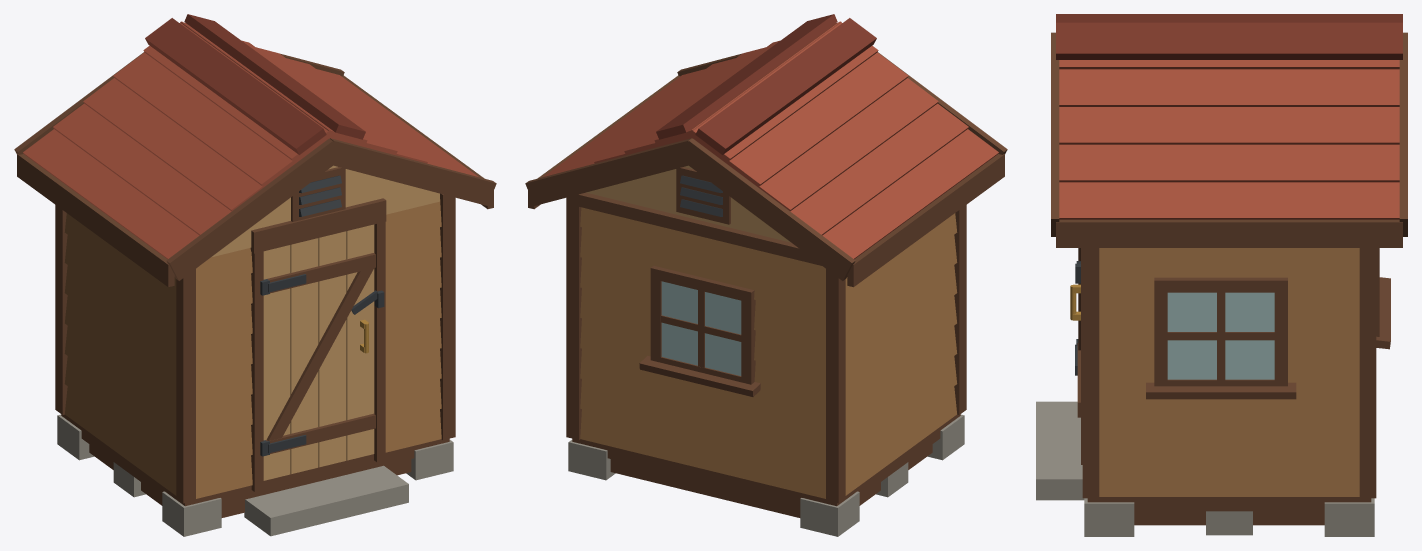
The model's file is storage-shed.m1.glb.
The picture shows the model from 3 angles, left to right: view 1: azimuth 30°, elevation 25°; view 2: azimuth 150°, elevation 25°; view 3: azimuth 270°, elevation 25°; orthographic projection. The views are drawn at different scales.
Visible parts, largest first — view 1: wall_lap_siding, roof_tile_courses, door_planks, foundation_piers, roof_ridge_cap, corner_and_frieze_boards, roof_barge_boards, door_frame, door_ledges_and_brace, roof_eave_fascia, sill_beam, gable_boards (+4 smaller); view 2: wall_lap_siding, roof_tile_courses, corner_and_frieze_boards, roof_ridge_cap, roof_barge_boards, window_frame, window_glass, roof_eave_fascia, foundation_piers, sill_beam, gable_boards, base_skirt (+3 smaller); view 3: roof_tile_courses, wall_lap_siding, roof_ridge_cap, roof_eave_fascia, foundation_piers, corner_and_frieze_boards, window_frame, window_glass, sill_beam, roof_barge_boards, base_skirt, window_mullions (+1 smaller).
Part boxes in pixels (left/top/right/bottom): wall_lap_siding: left=64, top=199, right=441, bottom=498; roof_tile_courses: left=23, top=21, right=478, bottom=259; door_planks: left=263, top=224, right=374, bottom=480; foundation_piers: left=57, top=414, right=453, bottom=536; roof_ridge_cap: left=145, top=14, right=365, bottom=154; corner_and_frieze_boards: left=55, top=193, right=455, bottom=503; roof_barge_boards: left=14, top=52, right=496, bottom=280; door_frame: left=250, top=198, right=386, bottom=491; door_ledges_and_brace: left=265, top=253, right=375, bottom=453; roof_eave_fascia: left=17, top=75, right=493, bottom=287; sill_beam: left=61, top=414, right=449, bottom=506; gable_boards: left=211, top=165, right=439, bottom=257; wall_lap_siding: left=580, top=207, right=957, bottom=498; roof_tile_courses: left=543, top=21, right=998, bottom=259; corner_and_frieze_boards: left=566, top=192, right=966, bottom=503; roof_ridge_cap: left=656, top=14, right=876, bottom=154; roof_barge_boards: left=525, top=52, right=1007, bottom=280; window_frame: left=639, top=266, right=760, bottom=396; window_glass: left=661, top=281, right=741, bottom=375; roof_eave_fascia: left=528, top=75, right=1004, bottom=287; foundation_piers: left=568, top=414, right=964, bottom=536; sill_beam: left=572, top=414, right=960, bottom=506; gable_boards: left=586, top=165, right=790, bottom=242; base_skirt: left=610, top=444, right=932, bottom=517; roof_tile_courses: left=1059, top=60, right=1399, bottom=219; wall_lap_siding: left=1099, top=248, right=1359, bottom=496; roof_ridge_cap: left=1056, top=14, right=1402, bottom=59; roof_eave_fascia: left=1056, top=219, right=1402, bottom=247; foundation_piers: left=1036, top=401, right=1374, bottom=536; corner_and_frieze_boards: left=1082, top=248, right=1376, bottom=498; window_frame: left=1146, top=248, right=1390, bottom=399; window_glass: left=1167, top=292, right=1274, bottom=379; sill_beam: left=1087, top=497, right=1371, bottom=511; roof_barge_boards: left=1051, top=32, right=1407, bottom=236; base_skirt: left=1134, top=511, right=1324, bottom=525; window_mullions: left=1167, top=292, right=1274, bottom=380.
Size of the model in its own units: 2.59 by 2.93 by 2.23.
